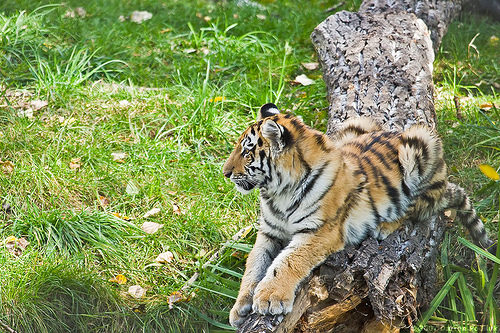Tigre: (213, 108, 439, 278)
